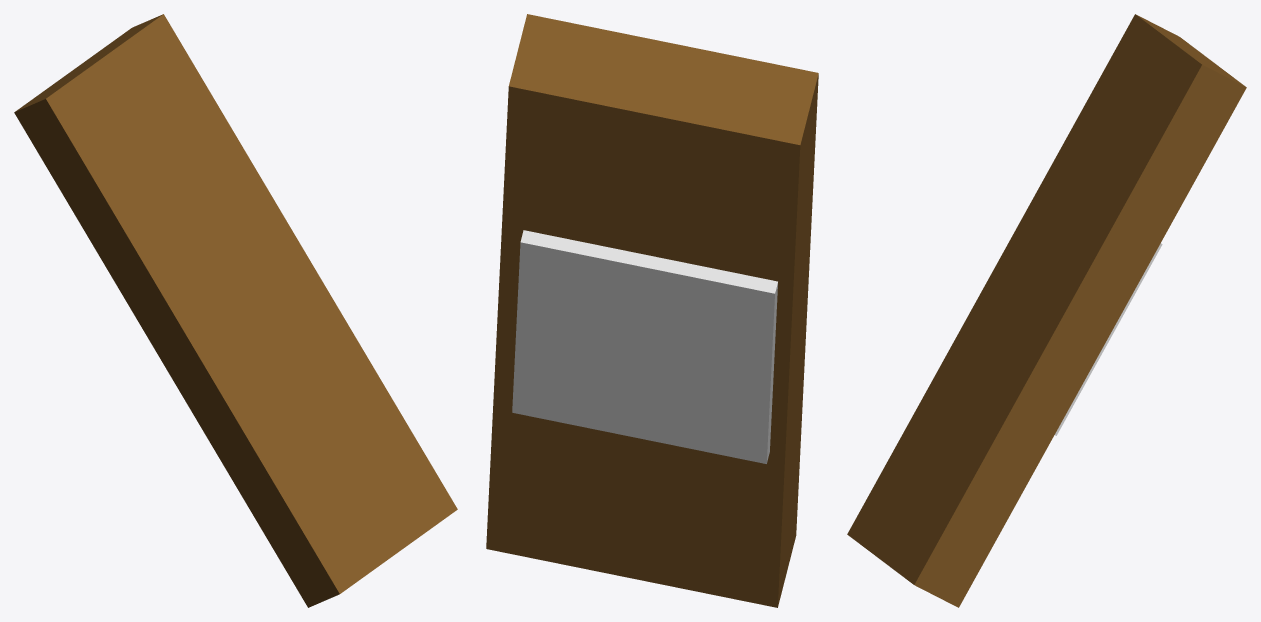
The model's file is heel.glb.
3 views of the same model, side by side, from view 1: azimuth 30°, elevation 25°; view 2: azimuth 150°, elevation 25°; view 3: azimuth 270°, elevation 25° (orthographic). The views are drawn at different scales.
Parts seen in each view (by area): view 1: Cube; view 2: Cube, Cube.001; view 3: Cube, Cube.001.
Boxes of the visible parts, box(x1,y1,x2,y2) form: Cube: box(14, 14, 457, 607); Cube: box(486, 14, 818, 607); Cube.001: box(512, 230, 777, 463); Cube: box(847, 14, 1246, 607); Cube.001: box(1055, 243, 1162, 435).
Bounding box in the file's own units: 0.3713 × 0.5432 × 0.3969.
